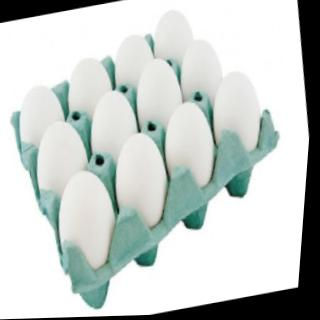Egg: (44, 160, 128, 276), (20, 102, 104, 217), (195, 61, 279, 176), (99, 122, 182, 237), (150, 91, 233, 206), (73, 71, 156, 186), (0, 56, 81, 172), (128, 43, 194, 129), (173, 28, 230, 109)
